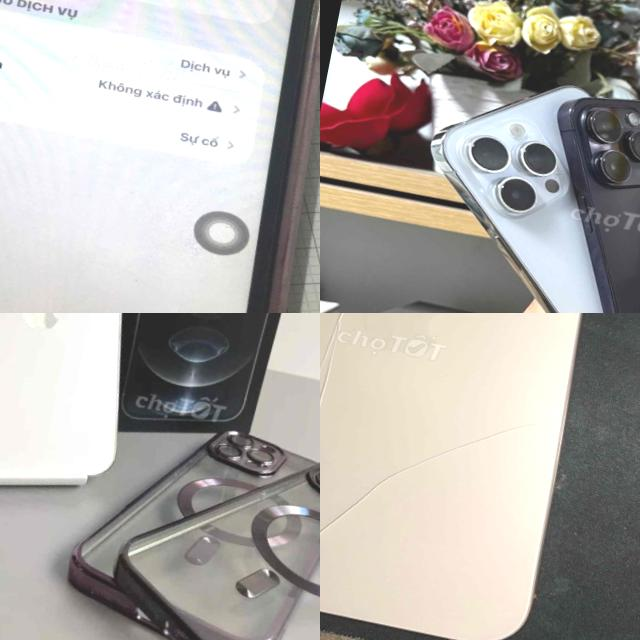gen_11: (0, 0, 320, 313)
gen_12_13: (0, 313, 178, 510)
gen_16: (320, 313, 626, 640)
